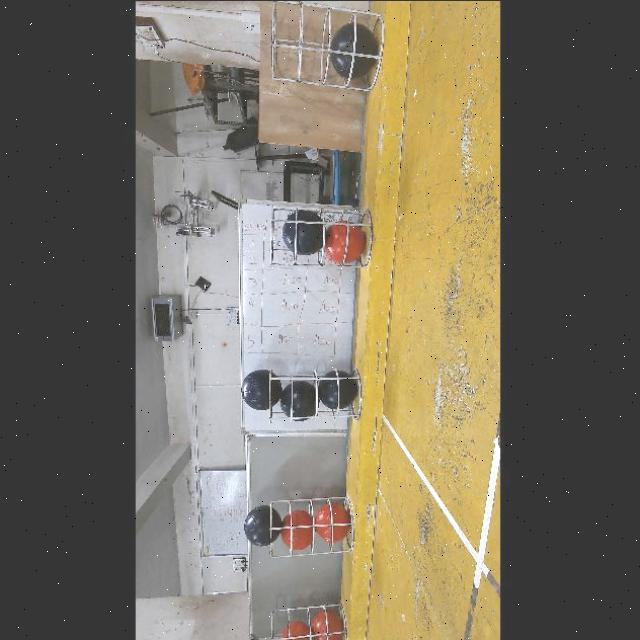P: (329, 21, 377, 78), (283, 208, 323, 255), (241, 368, 283, 409), (318, 369, 358, 409), (245, 504, 283, 546), (280, 379, 317, 421)
R: (324, 225, 366, 264), (315, 502, 351, 542), (281, 508, 313, 549), (312, 609, 343, 640), (280, 619, 310, 640)
S: (265, 0, 387, 94), (264, 205, 370, 272), (266, 490, 358, 558), (265, 362, 363, 424), (271, 598, 347, 640)
